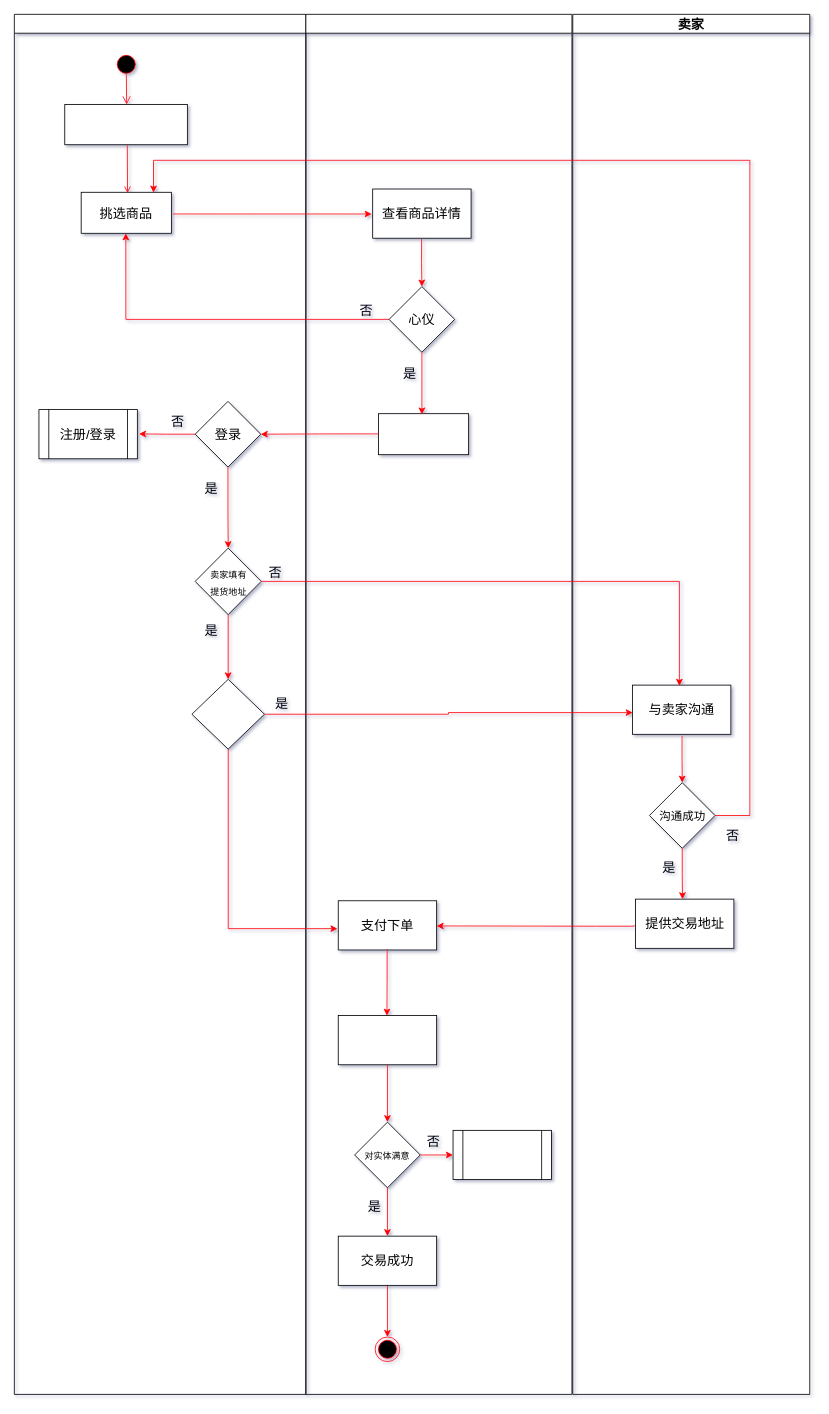
Image size: 829x1414. Some labels were removed from this diagram. Each missing label, with the box of its shape:
买家: (14, 14, 306, 1394)
商品: (305, 14, 572, 1394)
想知道商品 详细信息: (191, 679, 264, 749)
打开交易平台网站: (64, 104, 187, 145)
线下交易: (337, 1015, 437, 1065)
购买商品: (378, 413, 469, 455)
退货/退款: (452, 1130, 551, 1180)
